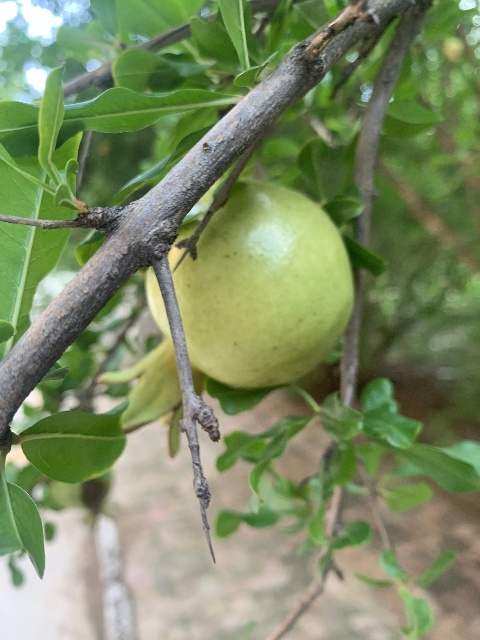mid-growth: (96, 181, 352, 461)
